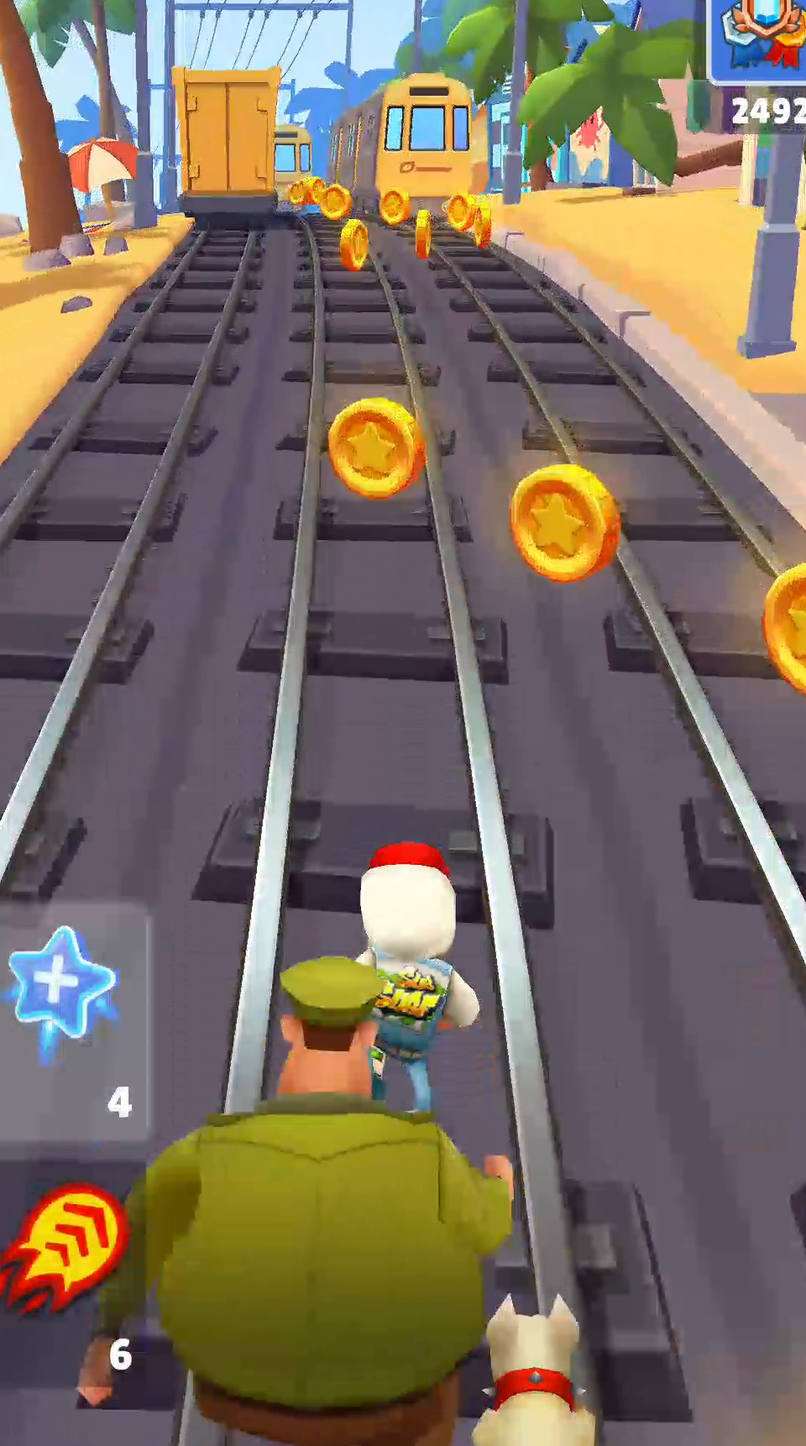train: (327, 73, 477, 214), (173, 66, 280, 228), (275, 123, 311, 202)
